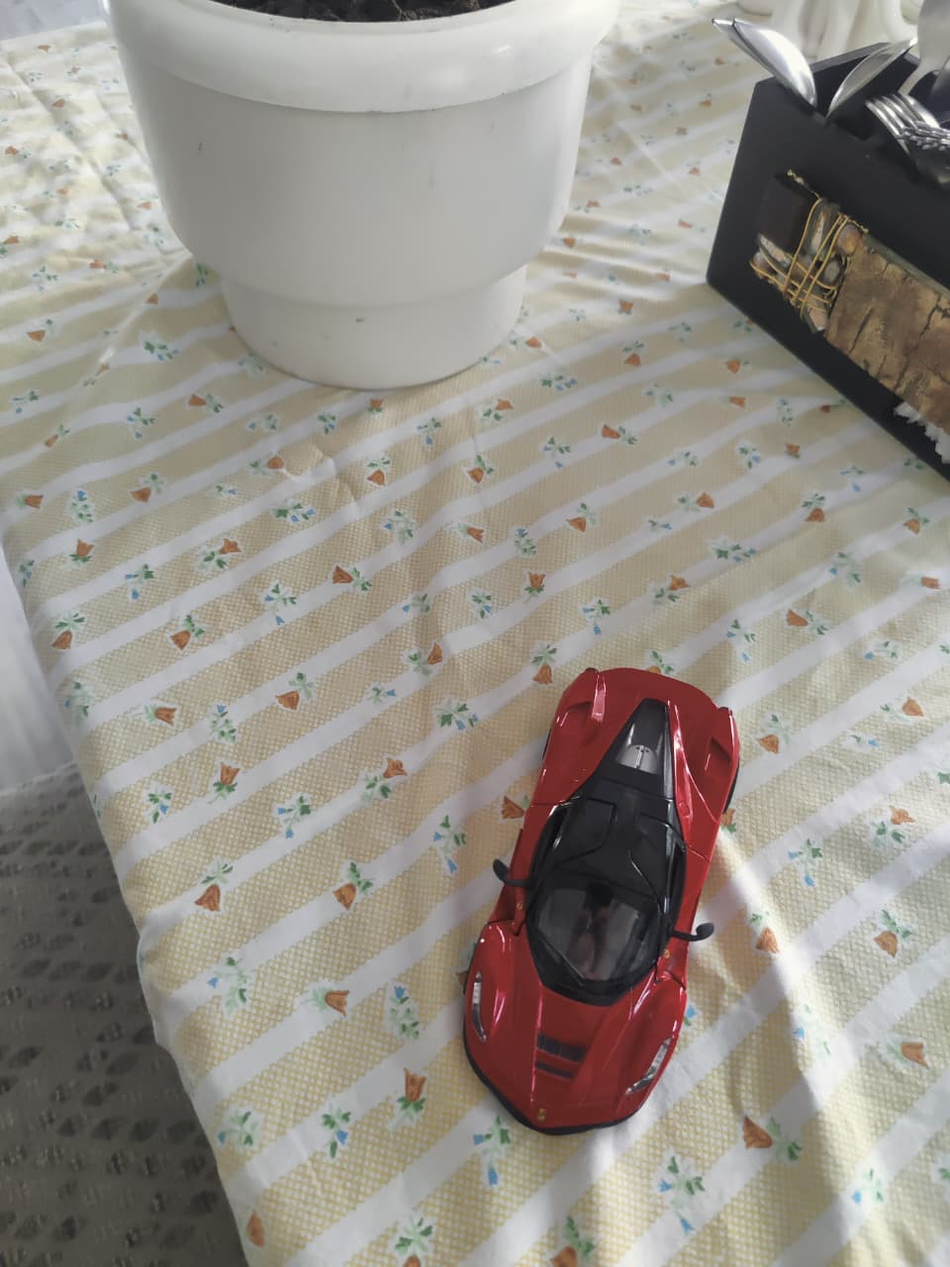car: (462, 666, 741, 1138)
